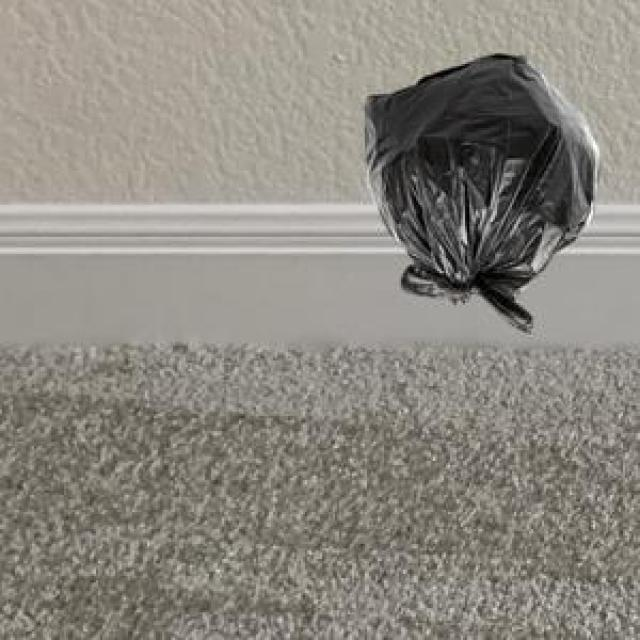miscellaneous trash: (361, 51, 595, 329)
